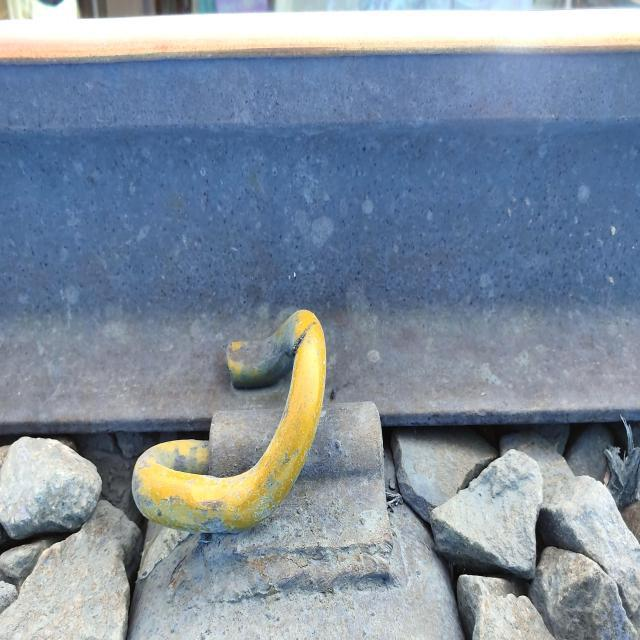Good Fasteners: (109, 280, 436, 630)
